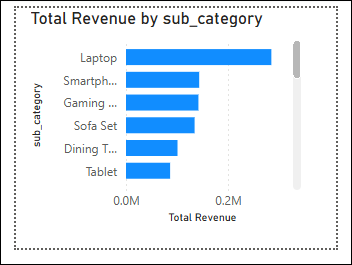

What the dashboard file says about the page in this screenshot:
{"tool":"powerbi","page":{"name":"tooltip","canvas":[320,240],"ordinal":2},"visuals":[{"type":"clusteredBarChart","fields":{"Category":["public retail_sales.sub_category"],"Y":["public retail_sales.Total Revenue"]},"box":[10,0,280,220],"z":0}]}

Visuals, with their boxes in screenshot pixels (x1, y1, x2, y2), scaled from the page's 320x240 canvas onto the 352x265 screenshot:
clusteredBarChart - public retail_sales.sub_category x public retail_sales.Total Revenue: x1=11 y1=0 x2=319 y2=243
